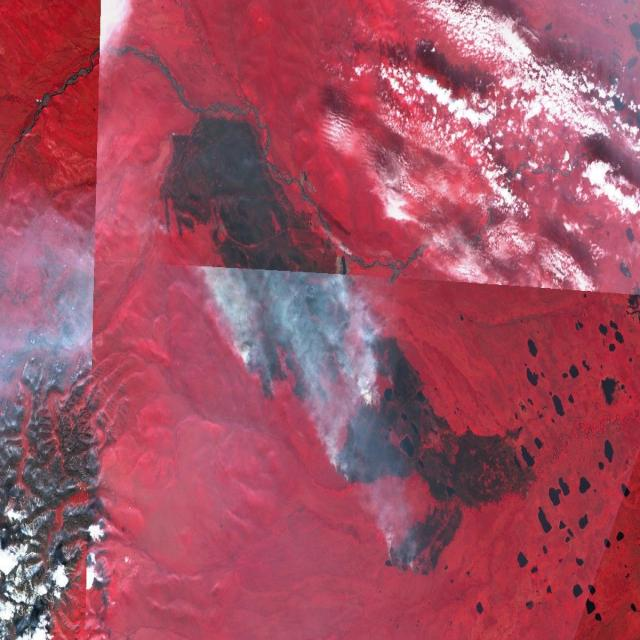fire: (225, 314, 288, 404), (350, 310, 404, 411), (325, 441, 371, 497)
